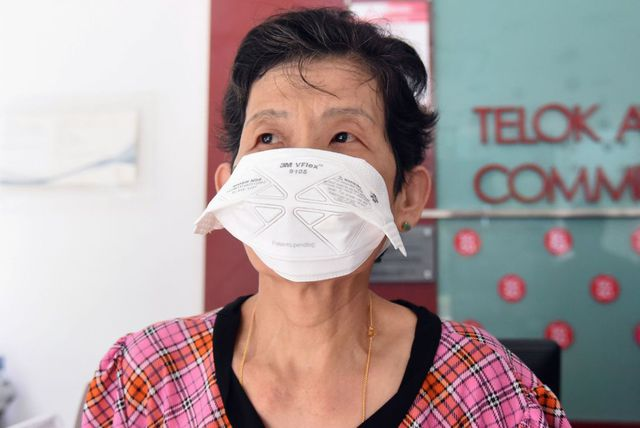mask: (223, 155, 396, 271)
